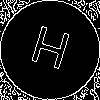H: (25, 25, 73, 79)
